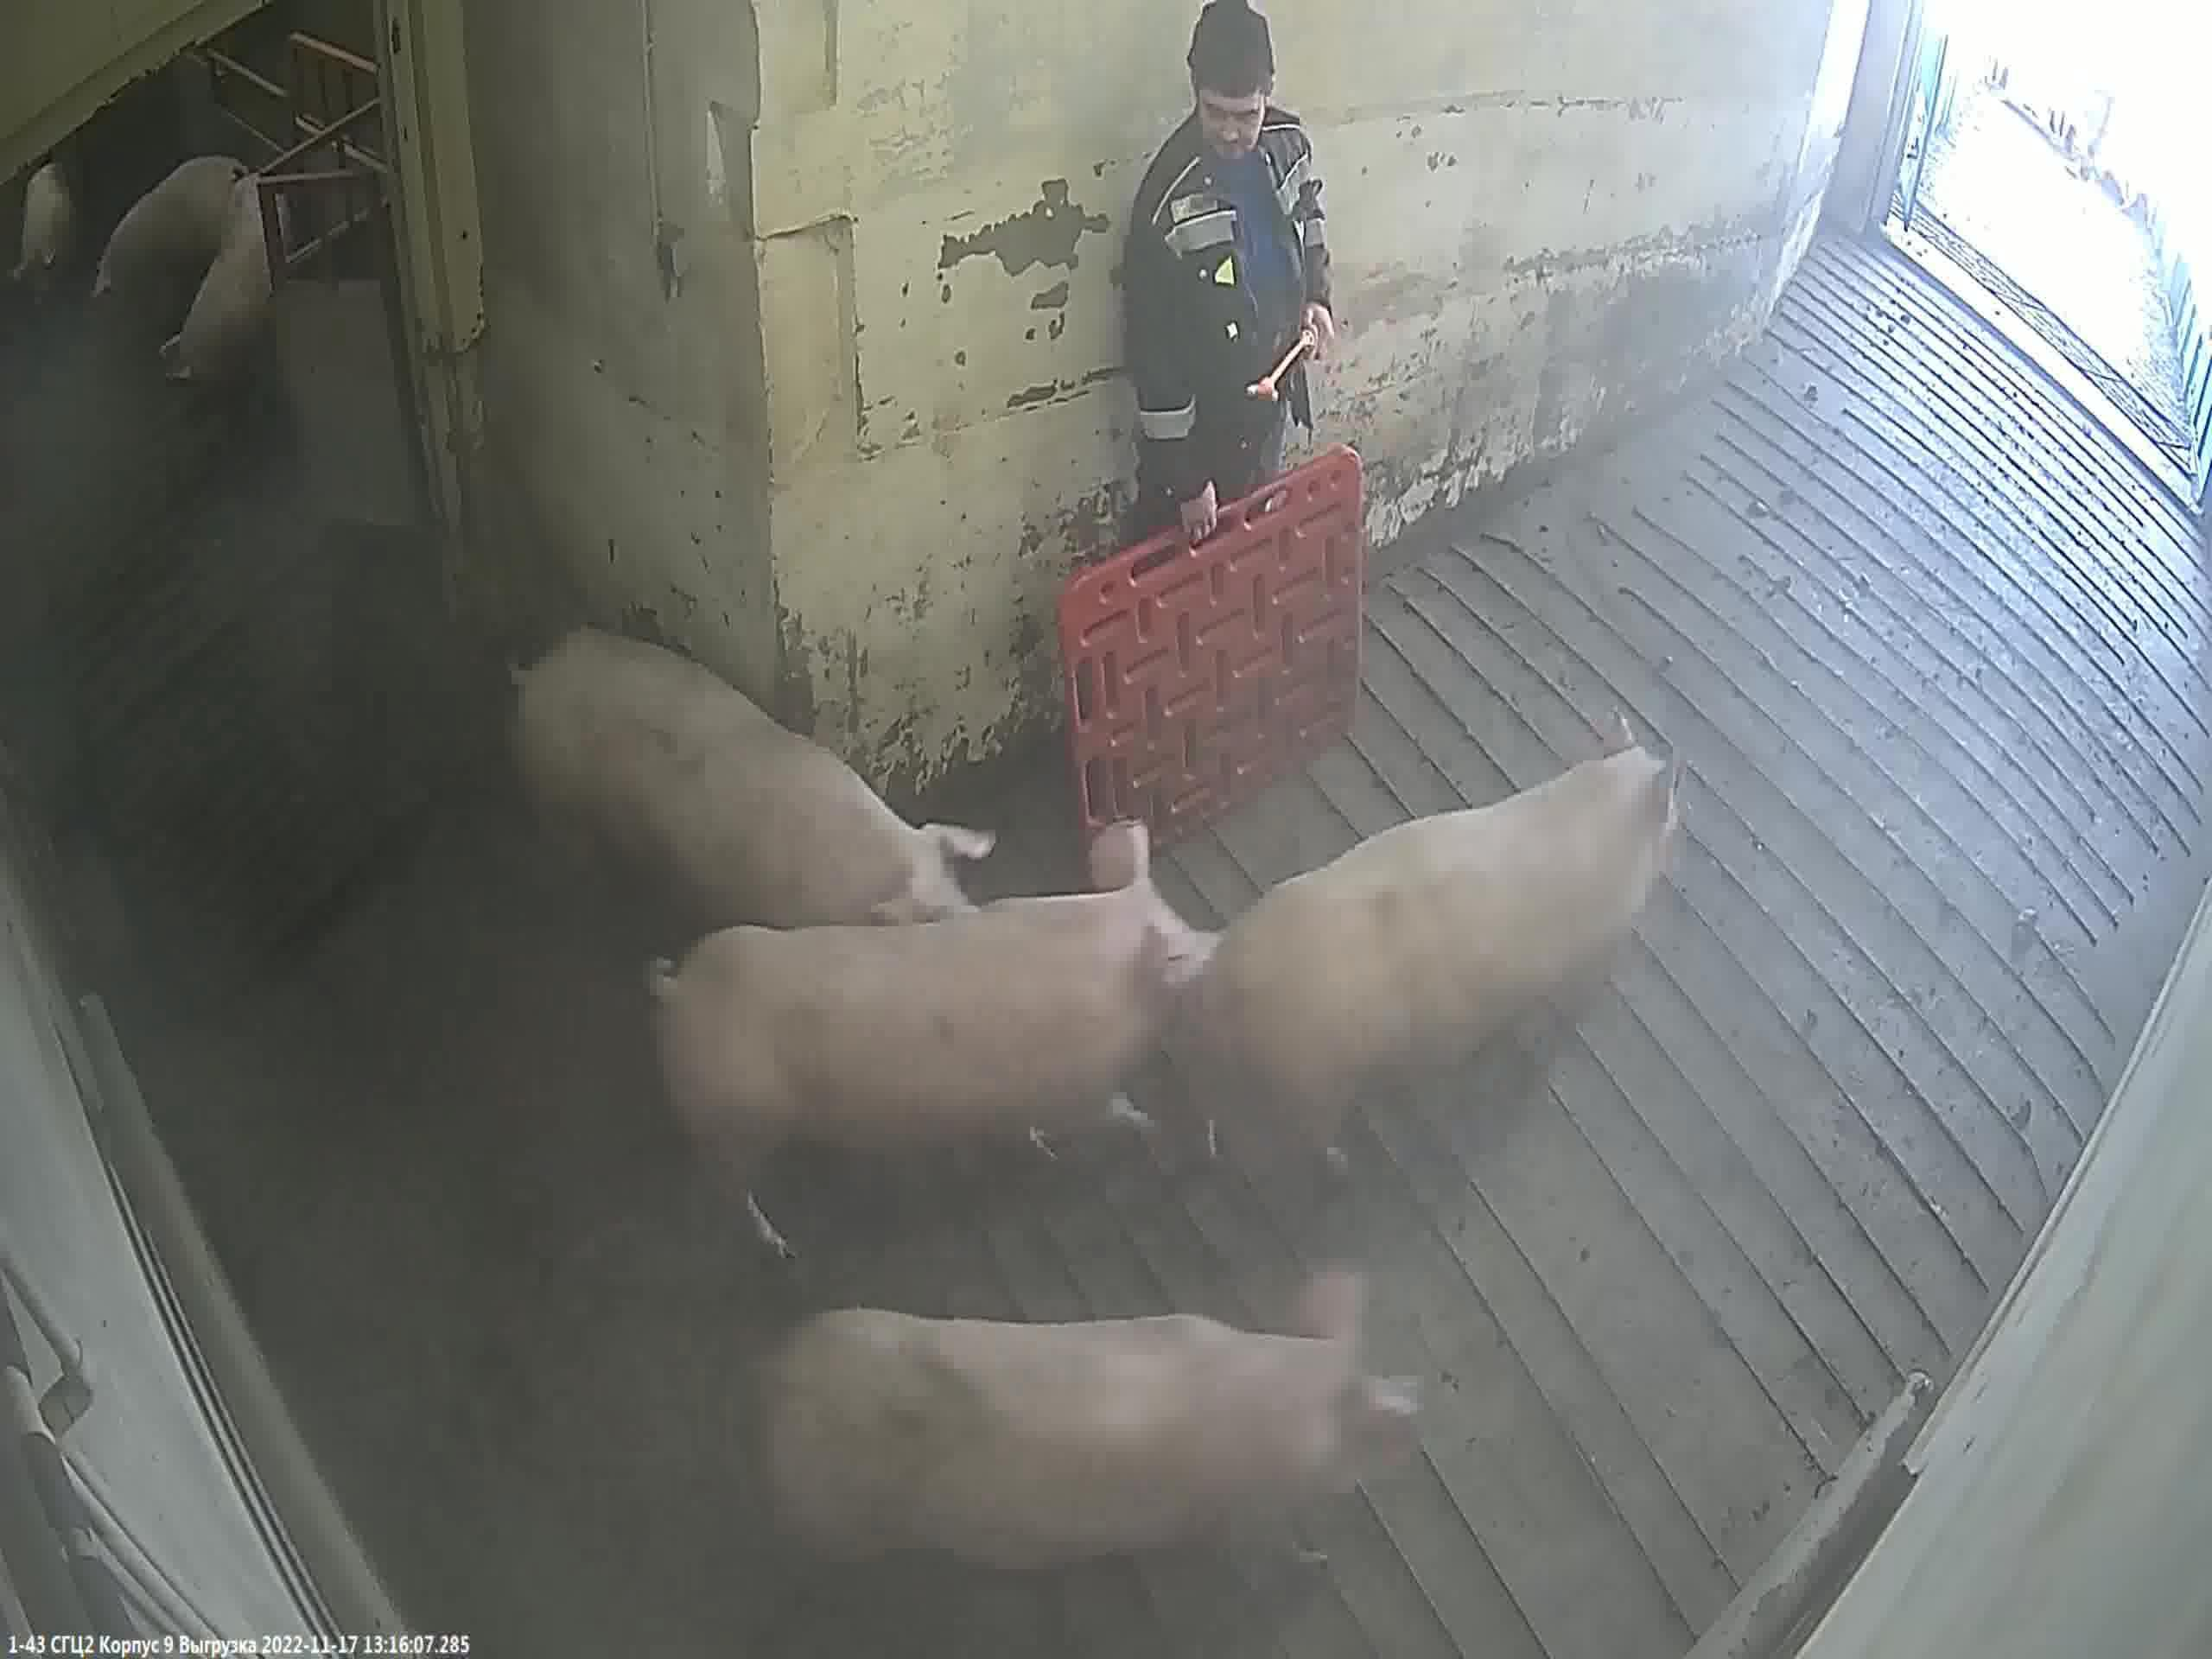Pigs: (651, 838, 1214, 1267), (1170, 746, 1679, 1220), (756, 1309, 1420, 1582), (510, 633, 988, 974), (155, 183, 286, 383), (96, 159, 253, 307), (10, 169, 80, 293)
